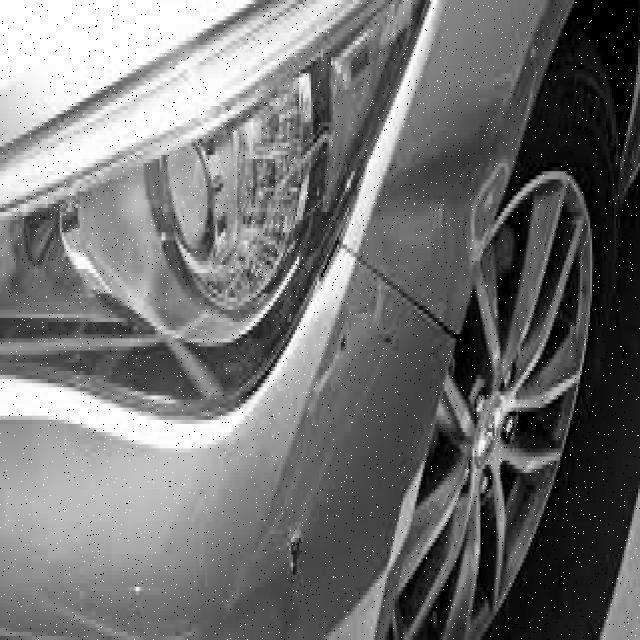front-bumper-dent: (0, 241, 442, 636)
